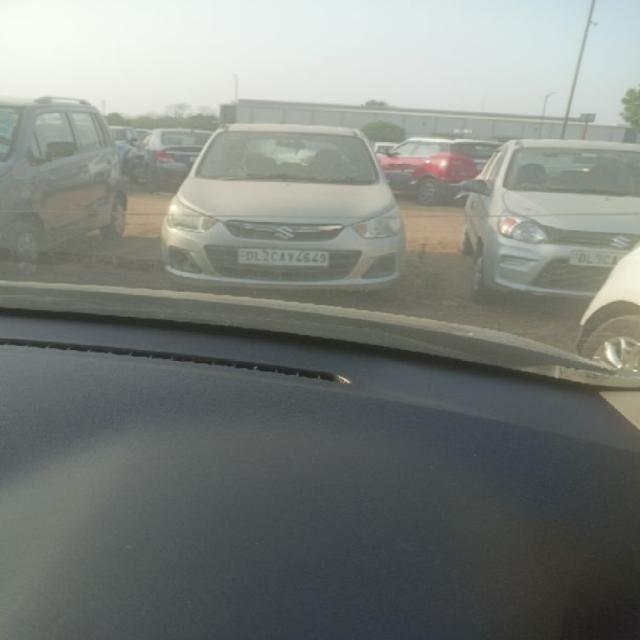license_plate: (236, 247, 330, 267), (568, 248, 624, 267)
